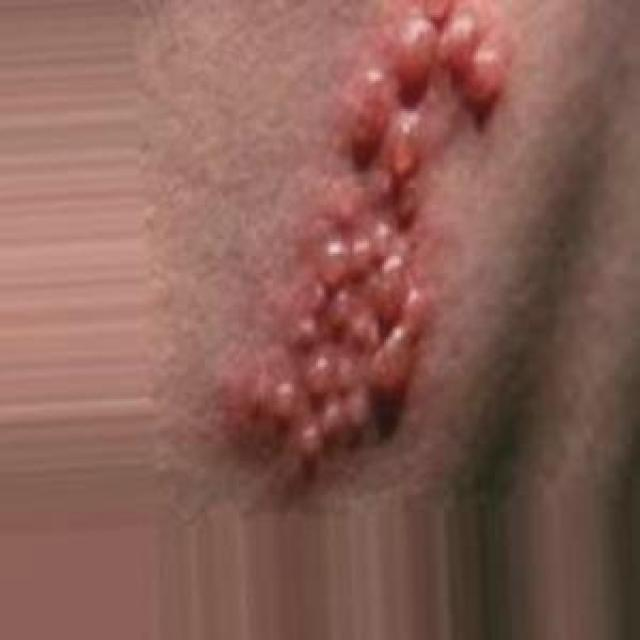Shingles: (253, 0, 503, 468)
